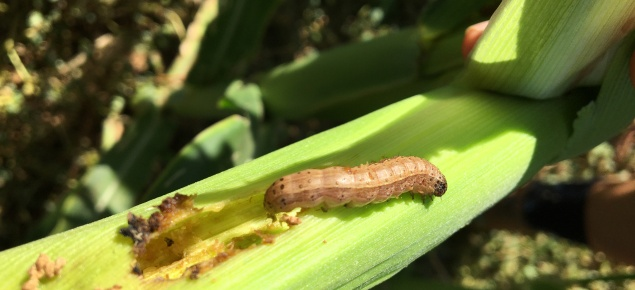Armyworm: (258, 144, 455, 226)
